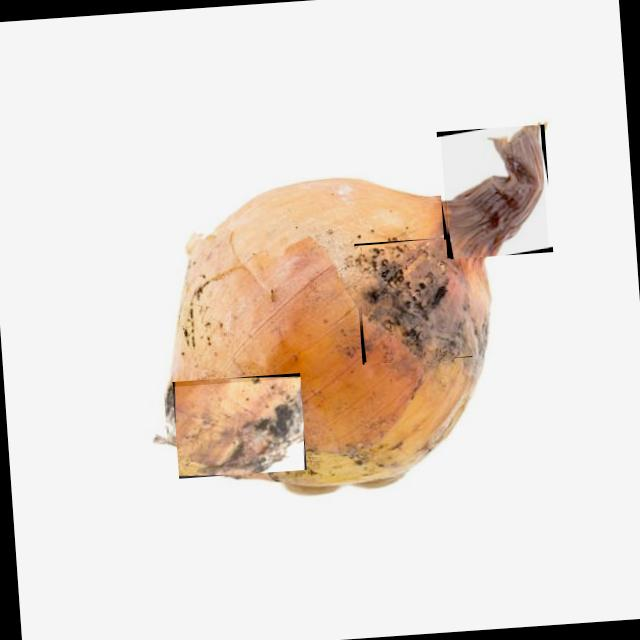mould: (357, 246, 470, 356), (178, 378, 303, 475)
rotten: (447, 124, 542, 256)
